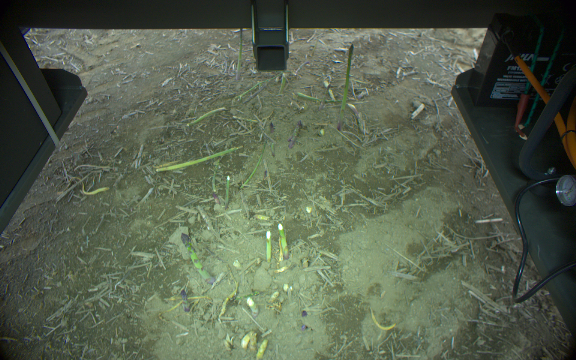aspa: (155, 142, 244, 173), (179, 230, 214, 285), (336, 42, 355, 136), (231, 28, 250, 81), (185, 105, 225, 129), (274, 222, 292, 262), (287, 120, 304, 151), (209, 167, 221, 205), (220, 173, 233, 208), (293, 90, 323, 103), (262, 228, 273, 263), (177, 287, 191, 314), (255, 337, 271, 360), (278, 74, 289, 98)
